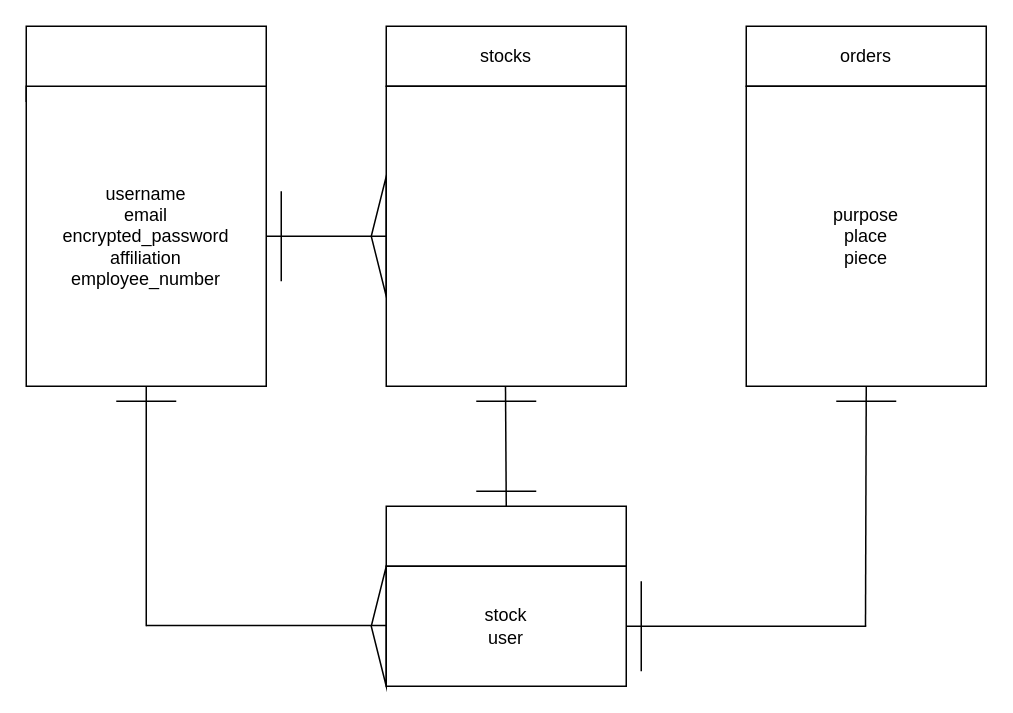
This 1013x713 diagram has some shape labels left out. The box of each missing label's shape, as (x1, y1, x2, y2) in pixels:
order_users: (385, 505, 626, 566)
title explanation category_id price piece user: (385, 85, 626, 386)
users: (25, 25, 266, 101)
